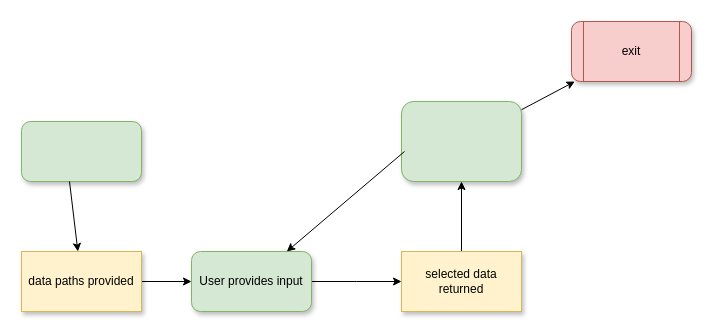
Some shapes in this 715 by 336 pixel diagram are drawn without their labels. Here are the shapes that lost their labels. From the top down, the centre of each, then its label:
At (82,152): "user is greeted".
At (462,142): "user provides new path or exits".
